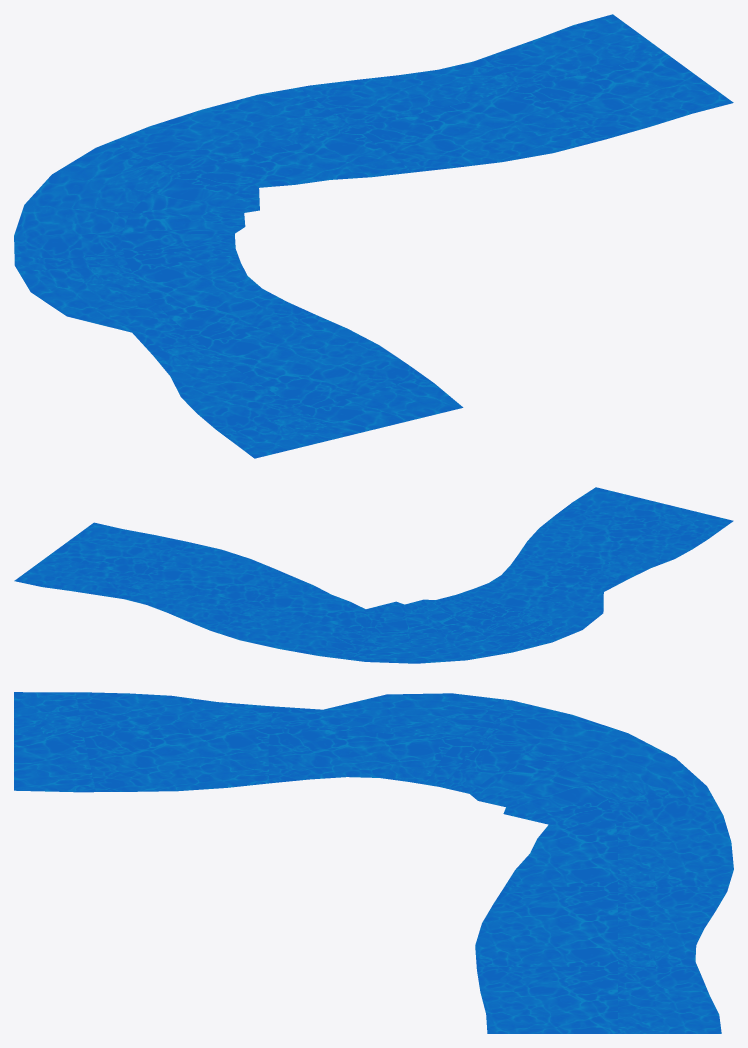
File: River4.glb
3 renders of one model, top to bottom at view 1: azimuth 30°, elevation 25°; view 2: azimuth 150°, elevation 25°; view 3: azimuth 270°, elevation 25°, orthographic. The views are drawn at different scales.
Parts seen in each view (by area): view 1: River3; view 2: River3; view 3: River3.
Boxes of the visible parts, box(x1,y1,x2,y2) form: River3: box(14, 14, 733, 458); River3: box(14, 487, 733, 663); River3: box(14, 692, 733, 1033).
Size of the model in its own units: 4.22 by 1.83e-07 by 3.75.
Materials: 1 (1 with a texture image).
